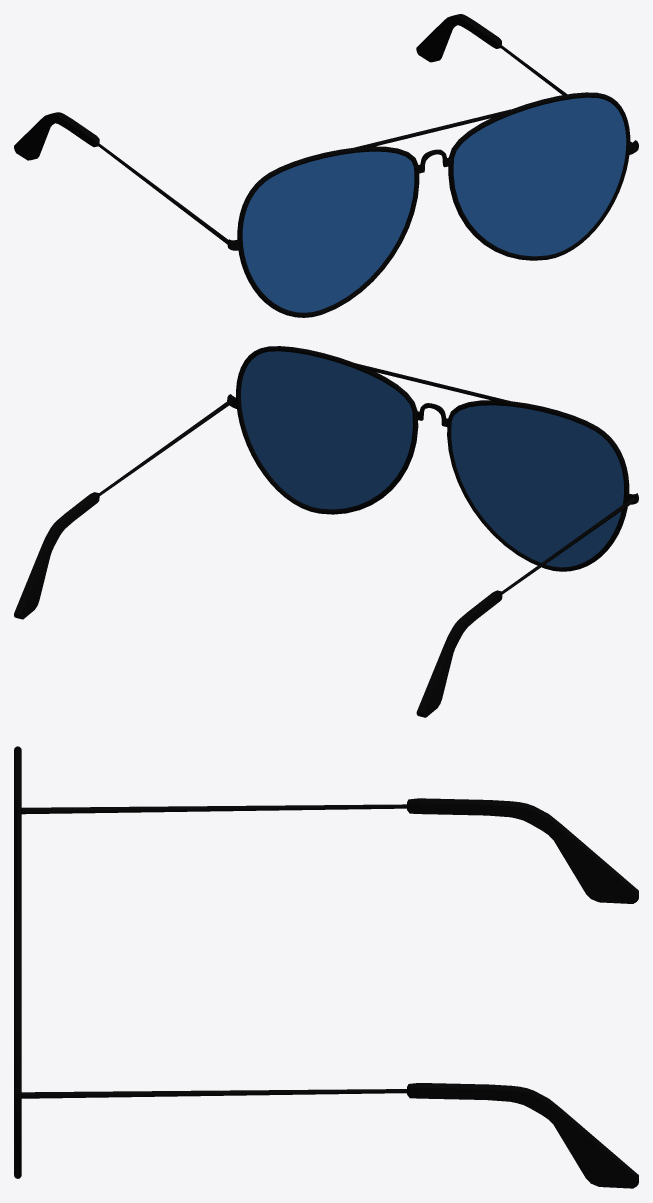
File: sunglasses-black.glb
3 views of the same model, one above another, from view 1: azimuth 30°, elevation 25°; view 2: azimuth 150°, elevation 25°; view 3: azimuth 270°, elevation 25° (orthographic). The views are drawn at different scales.
Parts seen in each view (by area): view 1: BézierCircle, Cube.004, Cube.003, Cylinder, Cylinder.001; view 2: BézierCircle, Cube.003, Cube.004, Cylinder, Cylinder.001, Cylinder.002; view 3: Cube.003, Cube.004, BézierCircle, Cylinder.002, Cylinder.001, Cylinder.
Part boxes in pixels (bbox=[...]): BézierCircle: bbox=[237, 92, 630, 317]; Cube.004: bbox=[416, 14, 501, 62]; Cube.003: bbox=[14, 112, 99, 160]; Cylinder: bbox=[353, 109, 511, 148]; Cylinder.001: bbox=[96, 142, 228, 244]; BézierCircle: bbox=[236, 346, 629, 571]; Cube.003: bbox=[416, 590, 502, 717]; Cube.004: bbox=[14, 492, 99, 619]; Cylinder: bbox=[354, 363, 512, 403]; Cylinder.001: bbox=[502, 497, 635, 594]; Cylinder.002: bbox=[99, 399, 232, 495]; Cube.003: bbox=[407, 798, 638, 903]; Cube.004: bbox=[407, 1083, 638, 1188]; BézierCircle: bbox=[14, 746, 21, 1178]; Cylinder.002: bbox=[21, 1089, 406, 1098]; Cylinder.001: bbox=[21, 804, 406, 814]; Cylinder: bbox=[15, 799, 20, 912].
Size of the model in its own units: 3.56 by 1.34 by 3.25.
